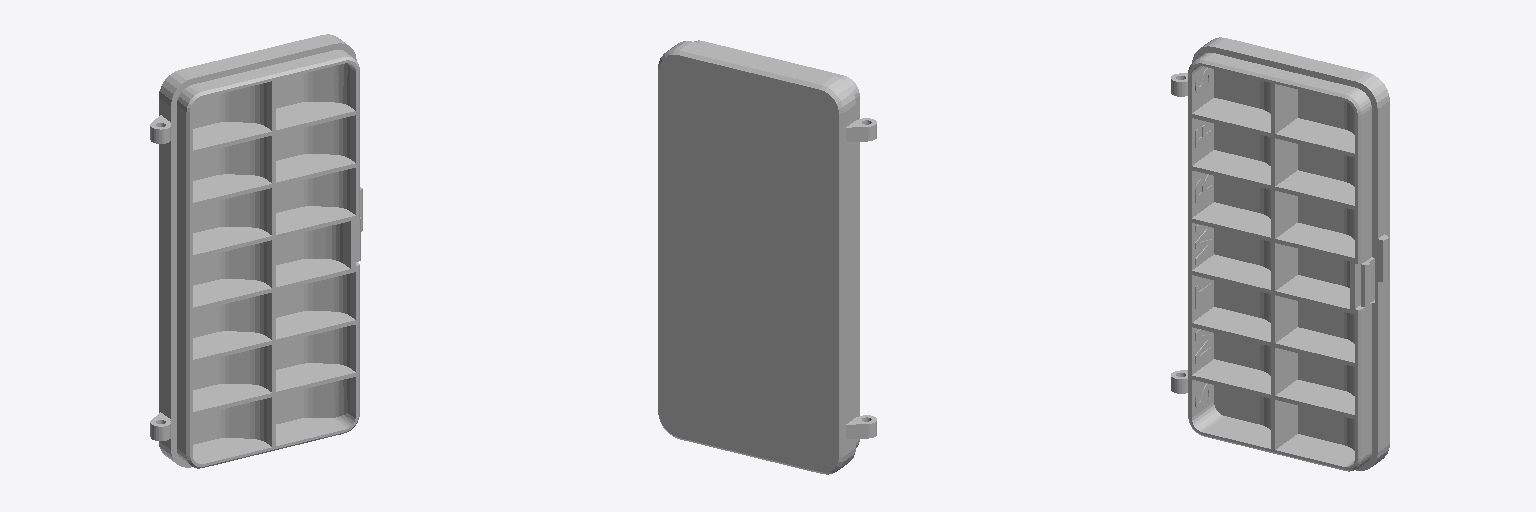
Rendered from Downloaded-Pillbox-Bottom.obj.
3 renders of one model, left to right at view 1: azimuth 30°, elevation 25°; view 2: azimuth 150°, elevation 25°; view 3: azimuth 330°, elevation 25°, orthographic.
Visible parts, largest first — view 1: Body1; view 2: Body1; view 3: Body1.
Boxes of the visible parts, x1,y1,x2,y2 form: Body1: [150, 34, 362, 468]; Body1: [658, 40, 876, 474]; Body1: [1171, 37, 1389, 471].
Size of the model in its own units: 6.85 by 12 by 1.4.